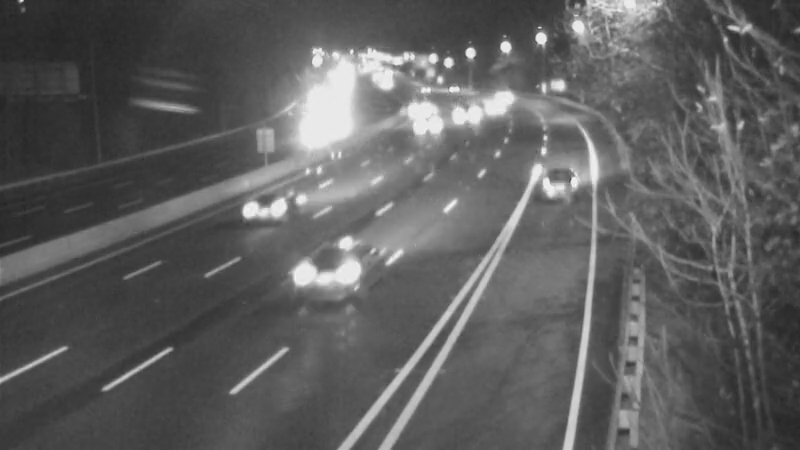vehicle: (531, 138, 611, 218), (221, 172, 301, 252), (298, 244, 378, 324), (398, 63, 448, 113), (459, 78, 509, 128), (390, 79, 440, 129), (432, 93, 482, 143), (404, 101, 454, 151), (286, 108, 336, 158)
